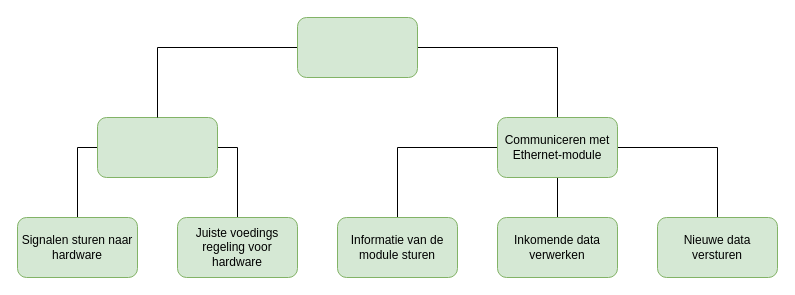
The diagram is 795 pixels wide and 295 high, and some of its shapes have lost their labels. Each missing label, with the centre of its shape:
"Aansturen van hardware" goes at (157,147).
"Aansturings-module" goes at (357,47).
